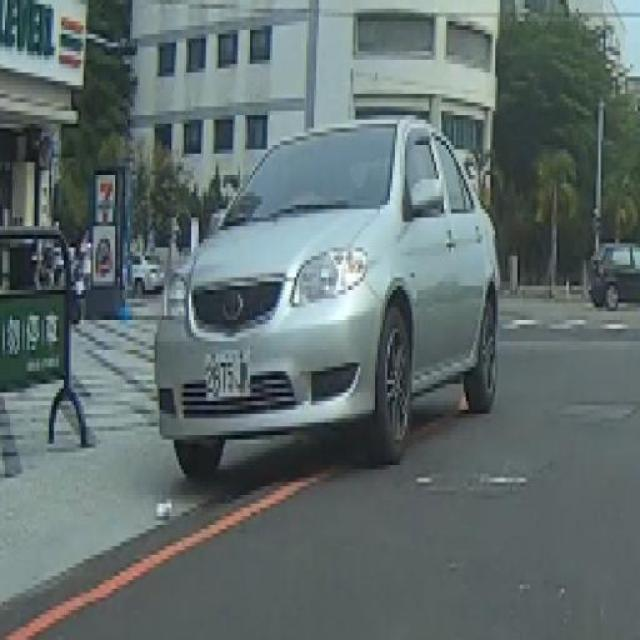illegalparking: (135, 103, 531, 520)
